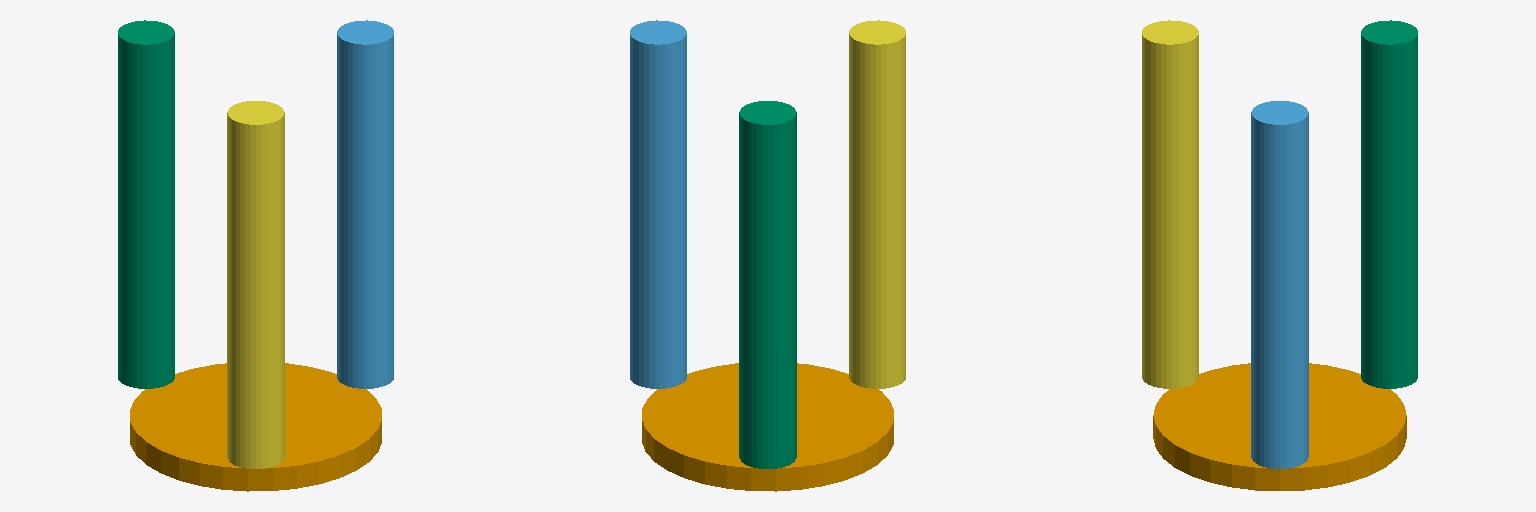
robot.urdf — Kelp_Harvester:
<?xml version="1.0"?>
<robot name="Kelp_Harvester">

    <link name="palm_link">
        <visual>
            <geometry>
                <cylinder radius="0.0500" length="0.0100"/>
            </geometry>
        </visual>
        <collision>
            <geometry>
                <cylinder radius="0.0500" length="0.0100"/>
            </geometry>
        </collision>
    </link>

    
    <link name="finger_0_link">
        <visual>
            <geometry>
                <cylinder radius="0.0113" length="0.1500"/>
            </geometry>
            <origin xyz="0 0 0.0750"/>
        </visual>
        <collision>
            <geometry>
                <cylinder radius="0.0113" length="0.1500"/>
            </geometry>
            <origin xyz="0 0 0.0750"/>
        </collision>
    </link>

    <joint name="finger_0_joint" type="revolute">
        <parent link="palm_link"/>
        <child link="finger_0_link"/>
        <origin xyz="0.0500 0.0000 0.0100" rpy="0 0 0.0000"/>
        <axis xyz="0 1 0"/>
        <limit lower="-1.57" upper="1.57" effort="10" velocity="1"/>
    </joint>

    <link name="finger_1_link">
        <visual>
            <geometry>
                <cylinder radius="0.0113" length="0.1500"/>
            </geometry>
            <origin xyz="0 0 0.0750"/>
        </visual>
        <collision>
            <geometry>
                <cylinder radius="0.0113" length="0.1500"/>
            </geometry>
            <origin xyz="0 0 0.0750"/>
        </collision>
    </link>

    <joint name="finger_1_joint" type="revolute">
        <parent link="palm_link"/>
        <child link="finger_1_link"/>
        <origin xyz="-0.0250 0.0433 0.0100" rpy="0 0 2.0944"/>
        <axis xyz="0 1 0"/>
        <limit lower="-1.57" upper="1.57" effort="10" velocity="1"/>
    </joint>

    <link name="finger_2_link">
        <visual>
            <geometry>
                <cylinder radius="0.0113" length="0.1500"/>
            </geometry>
            <origin xyz="0 0 0.0750"/>
        </visual>
        <collision>
            <geometry>
                <cylinder radius="0.0113" length="0.1500"/>
            </geometry>
            <origin xyz="0 0 0.0750"/>
        </collision>
    </link>

    <joint name="finger_2_joint" type="revolute">
        <parent link="palm_link"/>
        <child link="finger_2_link"/>
        <origin xyz="-0.0250 -0.0433 0.0100" rpy="0 0 4.1888"/>
        <axis xyz="0 1 0"/>
        <limit lower="-1.57" upper="1.57" effort="10" velocity="1"/>
    </joint>

</robot>

--- What the picture shows (computed from the rendered views, not written in the file) ---
The picture shows the robot from 3 angles, left to right: view 1: azimuth 30°, elevation 25°; view 2: azimuth 150°, elevation 25°; view 3: azimuth 270°, elevation 25°; orthographic projection.
Model Kelp_Harvester with 4 links and 3 joints (3 revolute), rooted at palm_link, posed every joint at zero.
Visible links, largest first — view 1: finger_2_link, finger_0_link, finger_1_link, palm_link; view 2: finger_1_link, finger_0_link, finger_2_link, palm_link; view 3: finger_0_link, finger_1_link, finger_2_link, palm_link.
Boxes of the visible links, x1,y1,x2,y2 form: finger_2_link: [227, 101, 284, 468]; finger_0_link: [337, 20, 393, 388]; finger_1_link: [118, 20, 174, 388]; palm_link: [130, 363, 381, 491]; finger_1_link: [739, 101, 796, 468]; finger_0_link: [630, 20, 686, 388]; finger_2_link: [849, 20, 905, 388]; palm_link: [642, 363, 893, 491]; finger_0_link: [1251, 101, 1308, 468]; finger_1_link: [1361, 20, 1417, 388]; finger_2_link: [1142, 20, 1198, 388]; palm_link: [1153, 363, 1406, 490].
Bounding box of the posed robot: 0.1113 × 0.1092 × 0.165 m (x, y, z).
Geometry: primitives only (box / cylinder / sphere), no mesh files.